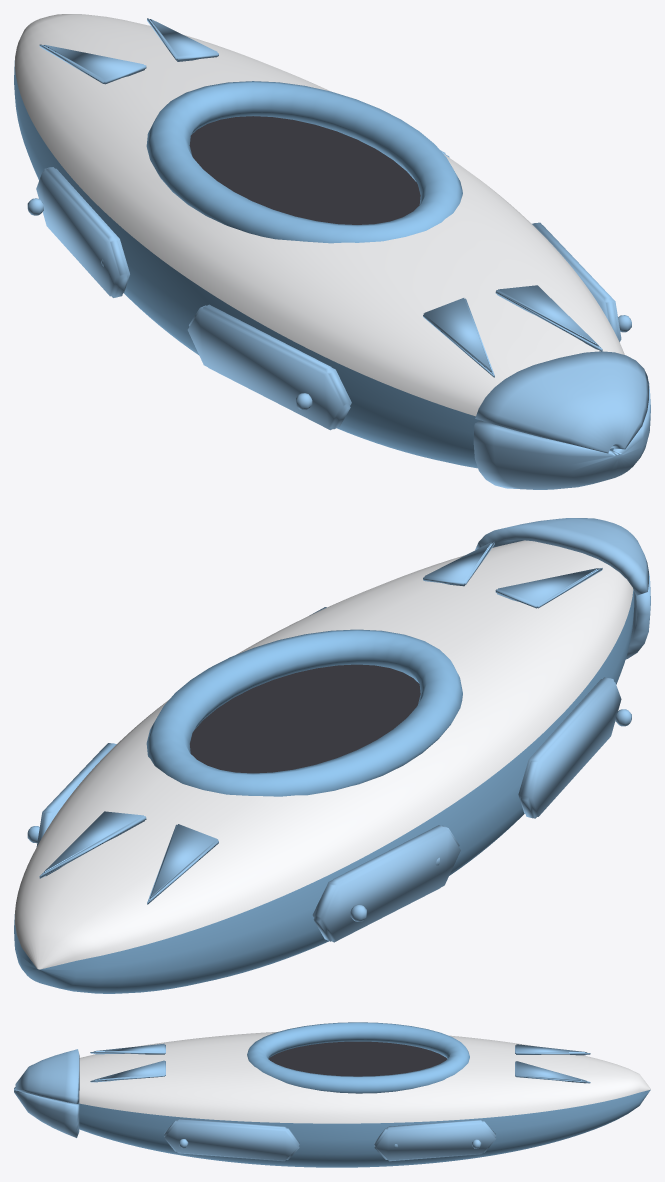
The model's file is Kayak_Icebreaker.glb.
3 views of the same model, one above another, from view 1: azimuth 30°, elevation 25°; view 2: azimuth 150°, elevation 25°; view 3: azimuth 270°, elevation 25° (orthographic). The views are drawn at different scales.
Parts seen in each view (by area): view 1: Kayak_Icebreaker_Deck, Kayak_Icebreaker_Accents, Kayak_Icebreaker, Kayak_Icebreaker_Cockpit; view 2: Kayak_Icebreaker_Deck, Kayak_Icebreaker, Kayak_Icebreaker_Accents, Kayak_Icebreaker_Cockpit; view 3: Kayak_Icebreaker_Deck, Kayak_Icebreaker, Kayak_Icebreaker_Accents, Kayak_Icebreaker_Cockpit.
Boxes of the visible parts, bbox=[...] form: Kayak_Icebreaker_Deck: bbox=[15, 14, 624, 416]; Kayak_Icebreaker_Accents: bbox=[27, 18, 650, 489]; Kayak_Icebreaker: bbox=[14, 60, 613, 468]; Kayak_Icebreaker_Cockpit: bbox=[189, 116, 420, 224]; Kayak_Icebreaker_Deck: bbox=[15, 540, 633, 969]; Kayak_Icebreaker: bbox=[14, 589, 634, 993]; Kayak_Icebreaker_Accents: bbox=[27, 518, 650, 942]; Kayak_Icebreaker_Cockpit: bbox=[190, 664, 420, 773]; Kayak_Icebreaker_Deck: bbox=[79, 1032, 650, 1123]; Kayak_Icebreaker: bbox=[78, 1022, 650, 1167]; Kayak_Icebreaker_Accents: bbox=[14, 1043, 590, 1161]; Kayak_Icebreaker_Cockpit: bbox=[268, 1041, 446, 1076].
Bounding box in the file's own units: 3.14 × 1.49 × 9.13.
